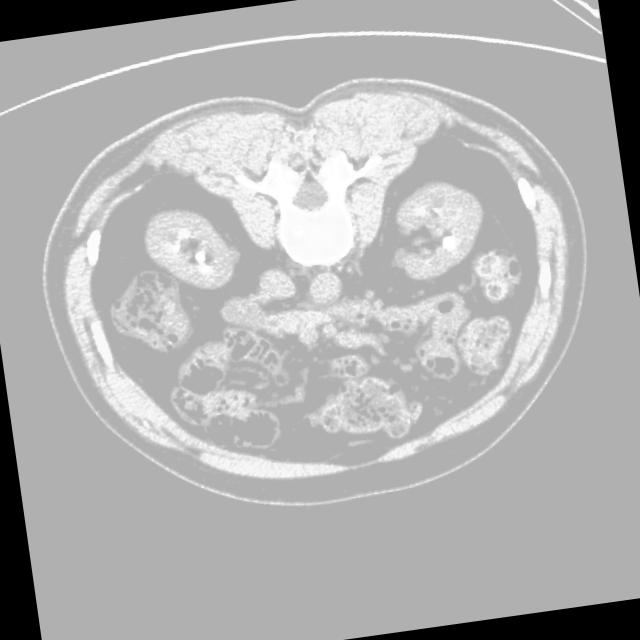STONE: (72, 140, 506, 367)
